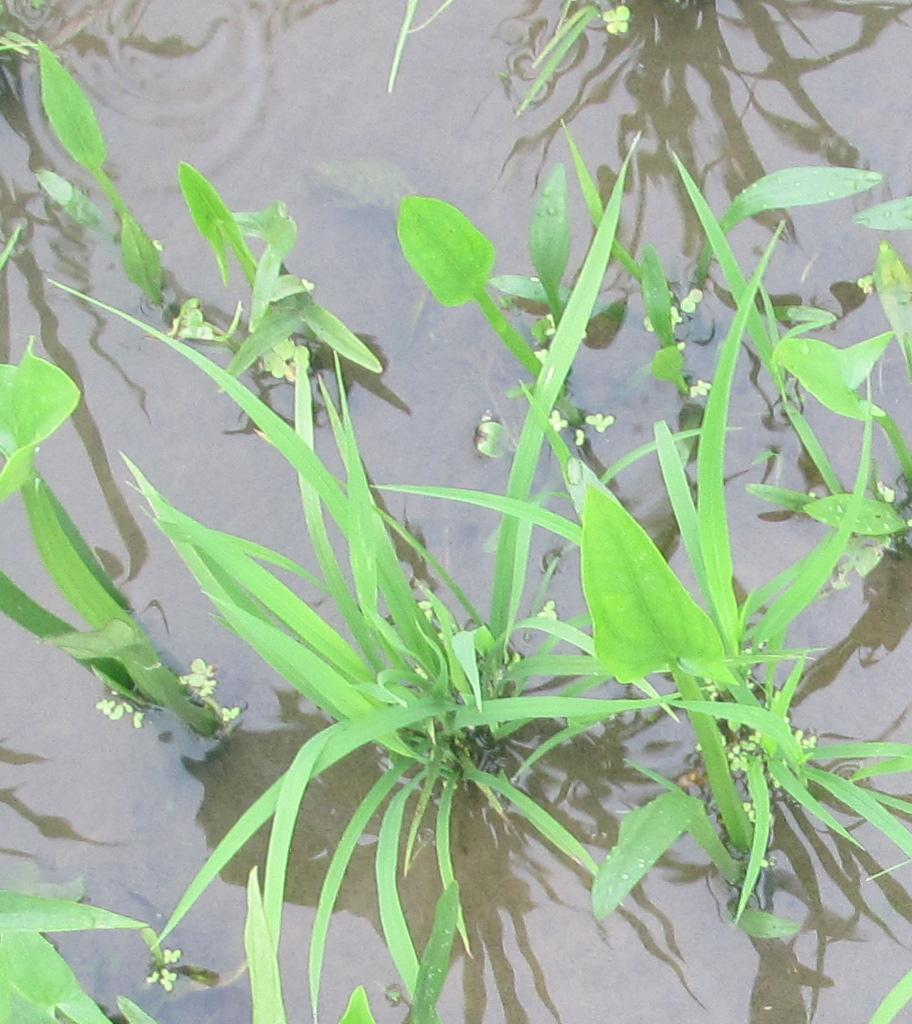Weed: (184, 188, 387, 385), (567, 485, 745, 675), (387, 189, 500, 308), (7, 352, 78, 489)
